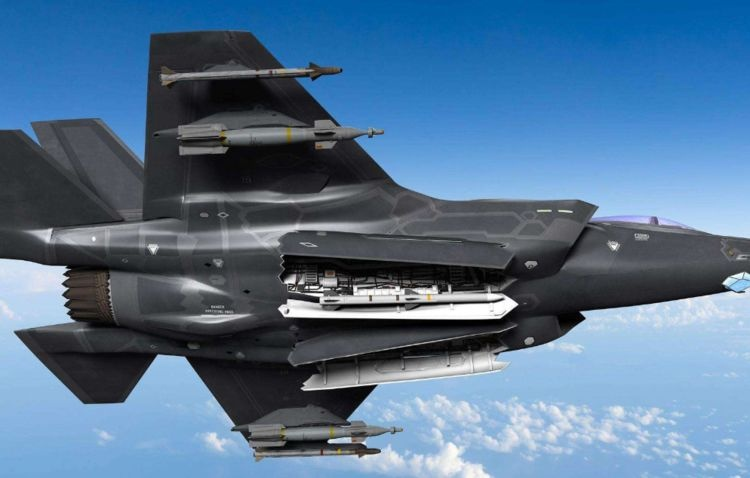airplane: (1, 29, 750, 455)
